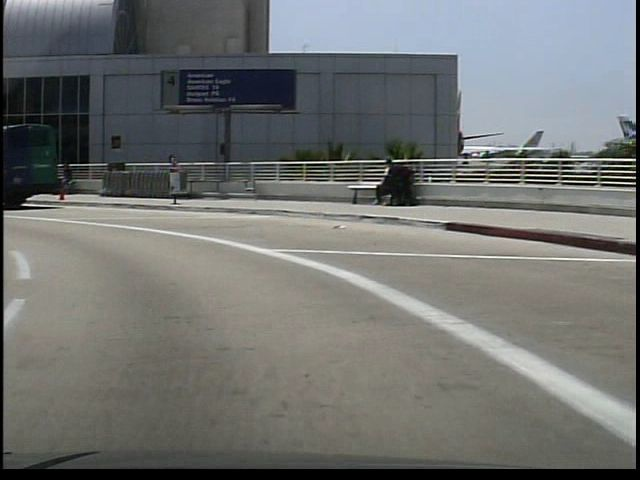person: (57, 160, 76, 198)
